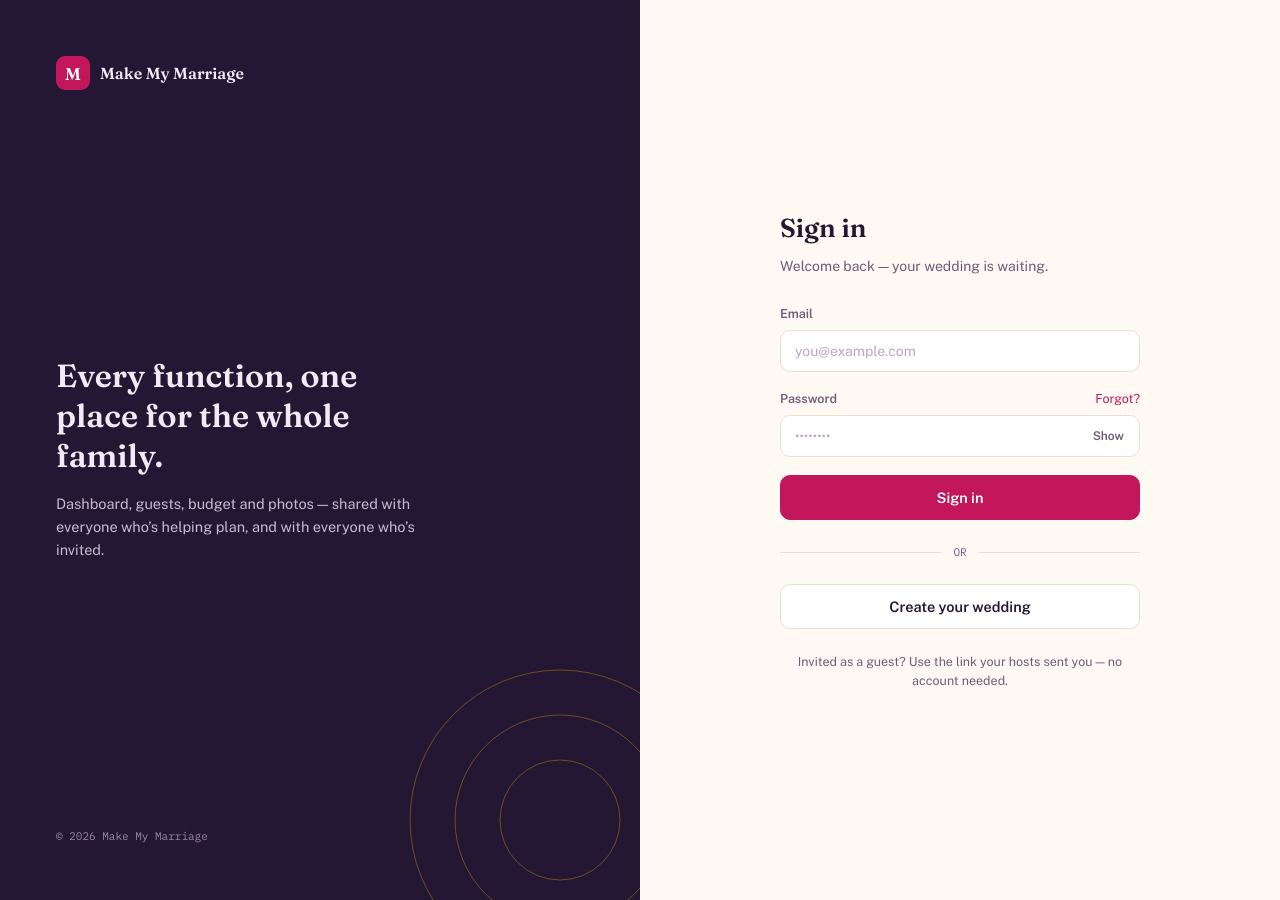
Test: Sign in › shows the server message for a wrong password and stays on Sign in
The width and height of the screenshot is (1280, 900).
In the field labelled "Email": (960, 351) [780,330,1140,372], type "aisha@email.com"
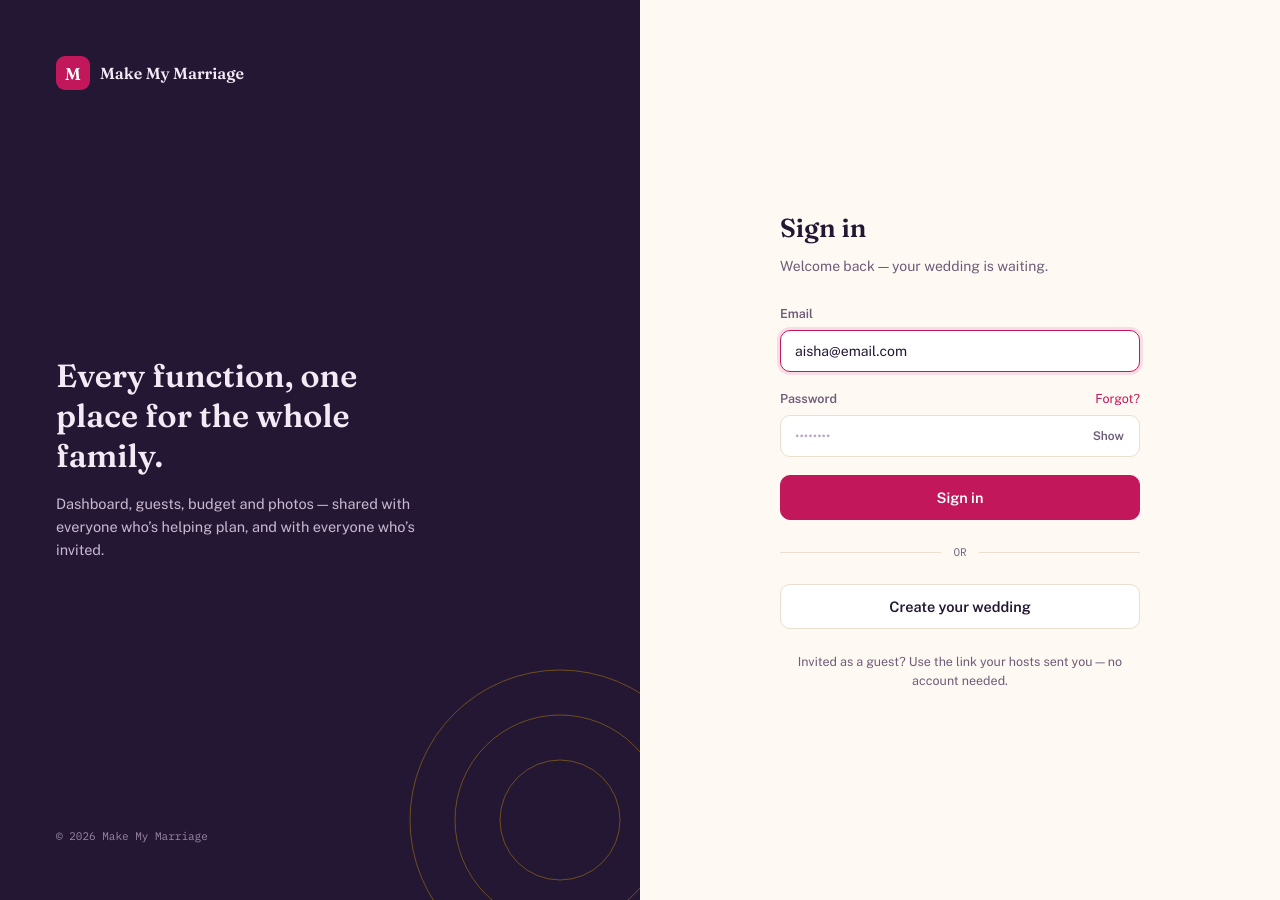
In the password field labelled "Password": (960, 436) [780,415,1140,457], type "wrong-pass"
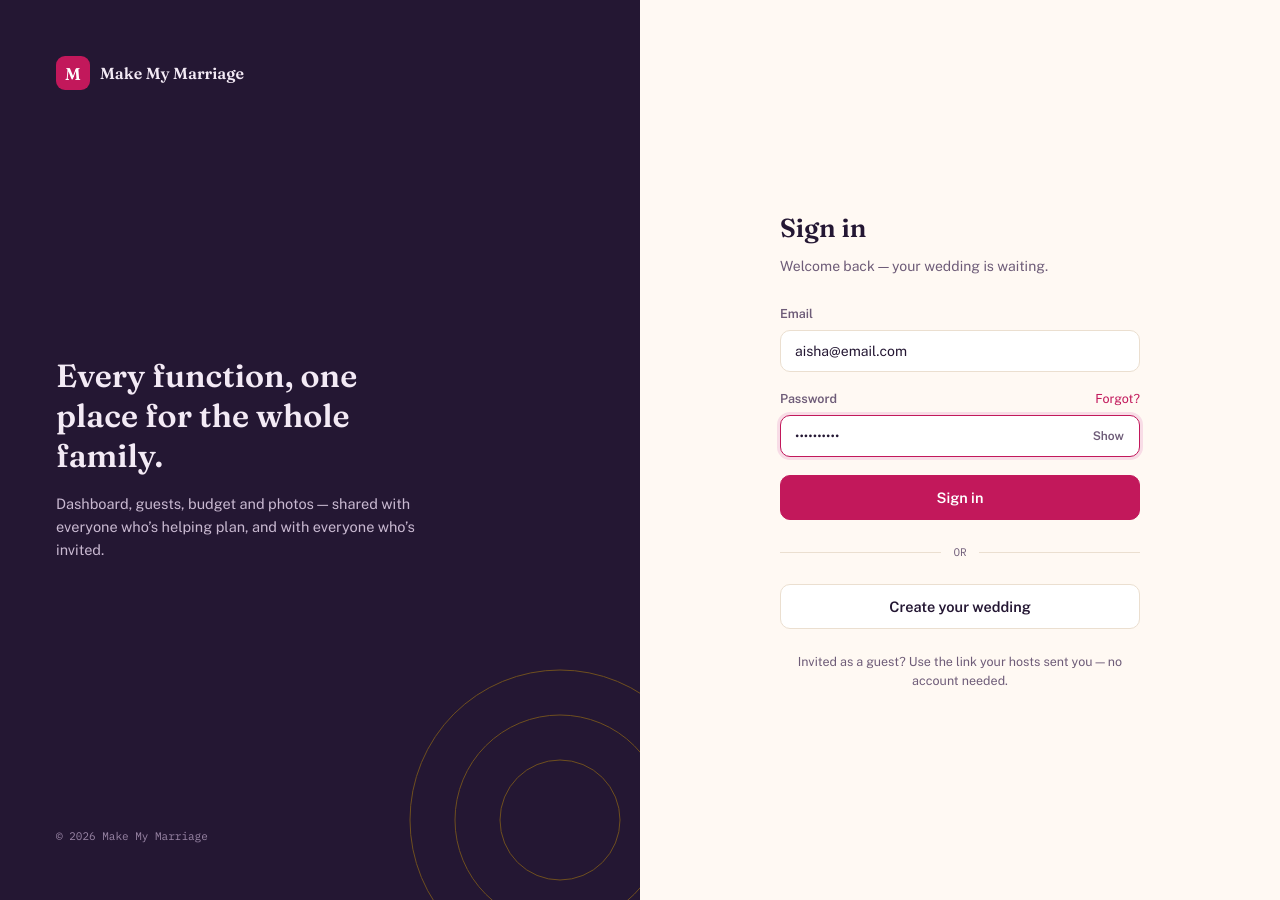
Click the button "Sign in": click(960, 497) [780,475,1140,520]
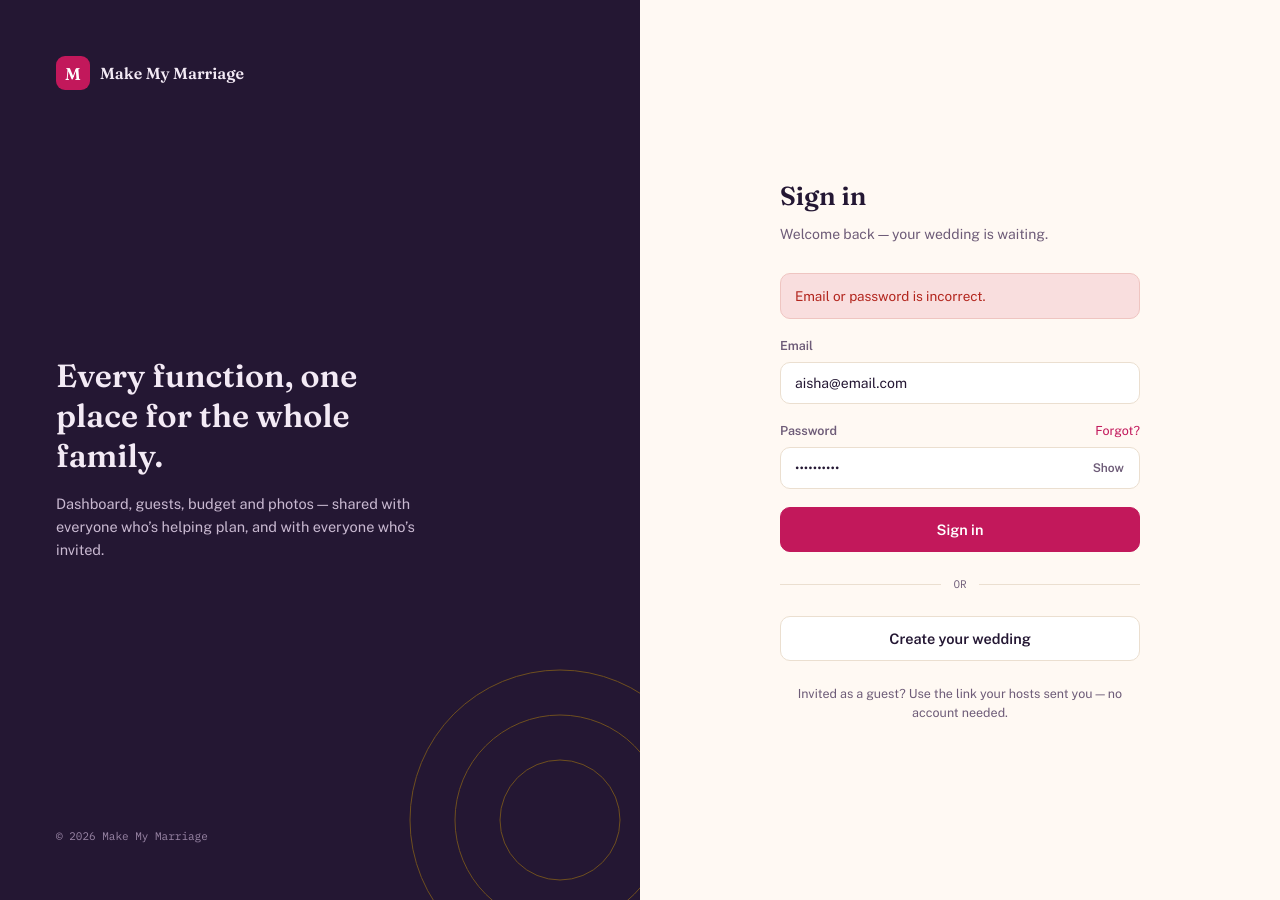
Check: the heading "Sign in" is shown, box [780,180,866,212]
Check: the message reads "Email or password is incorrect.", box [795,288,986,304]
